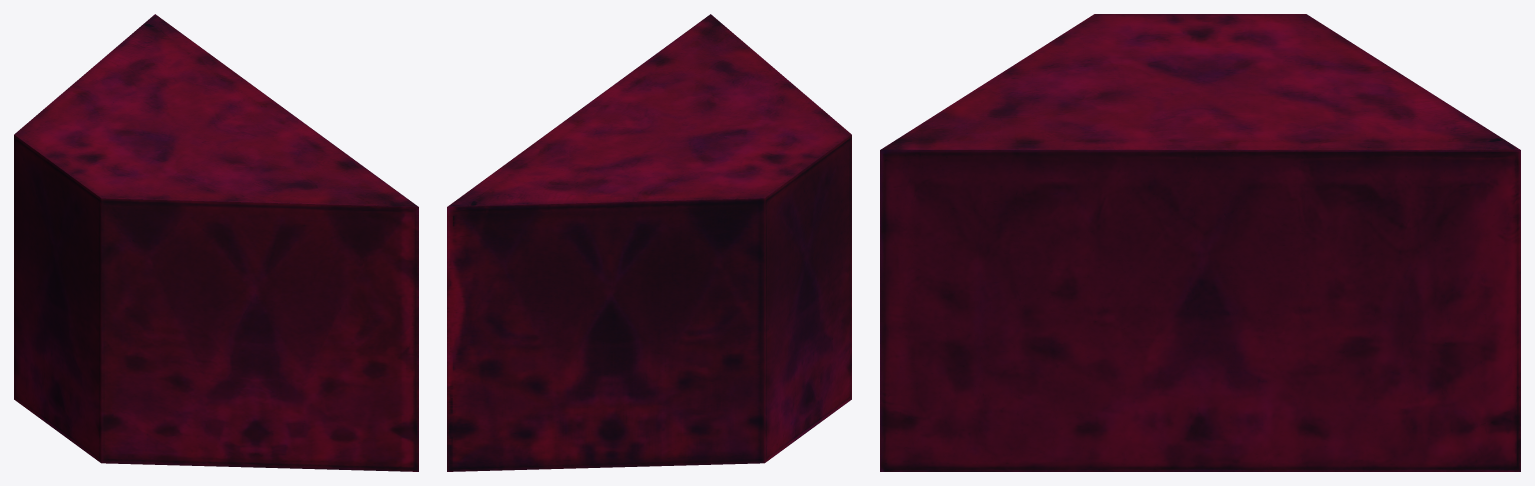
The model's file is quadri_right_cible_lvl_3.glb.
3 views of the same model, side by side, from view 1: azimuth 30°, elevation 25°; view 2: azimuth 150°, elevation 25°; view 3: azimuth 270°, elevation 25° (orthographic). The views are drawn at different scales.
Visible parts, largest first — view 1: Mesh_0; view 2: Mesh_0; view 3: Mesh_0.
Boxes of the visible parts, x1=… form: Mesh_0: x1=14, y1=14, x2=418, y2=471; Mesh_0: x1=447, y1=14, x2=851, y2=471; Mesh_0: x1=880, y1=14, x2=1520, y2=471.
Bounding box in the file's own units: 0.0779 × 0.086 × 0.1551.
1 material, 1 textured.
